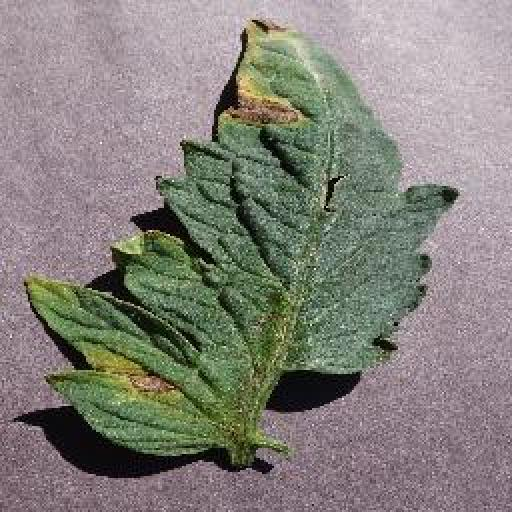Early Blight: (23, 20, 460, 460)
